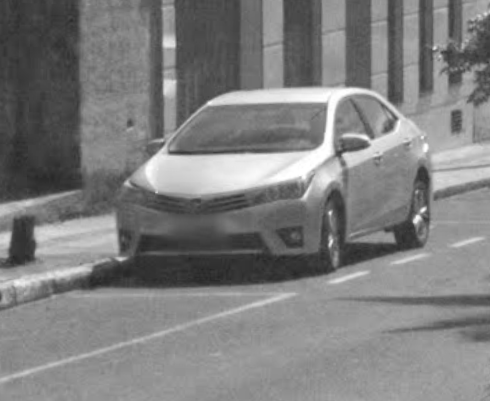car: (116, 85, 432, 275)
